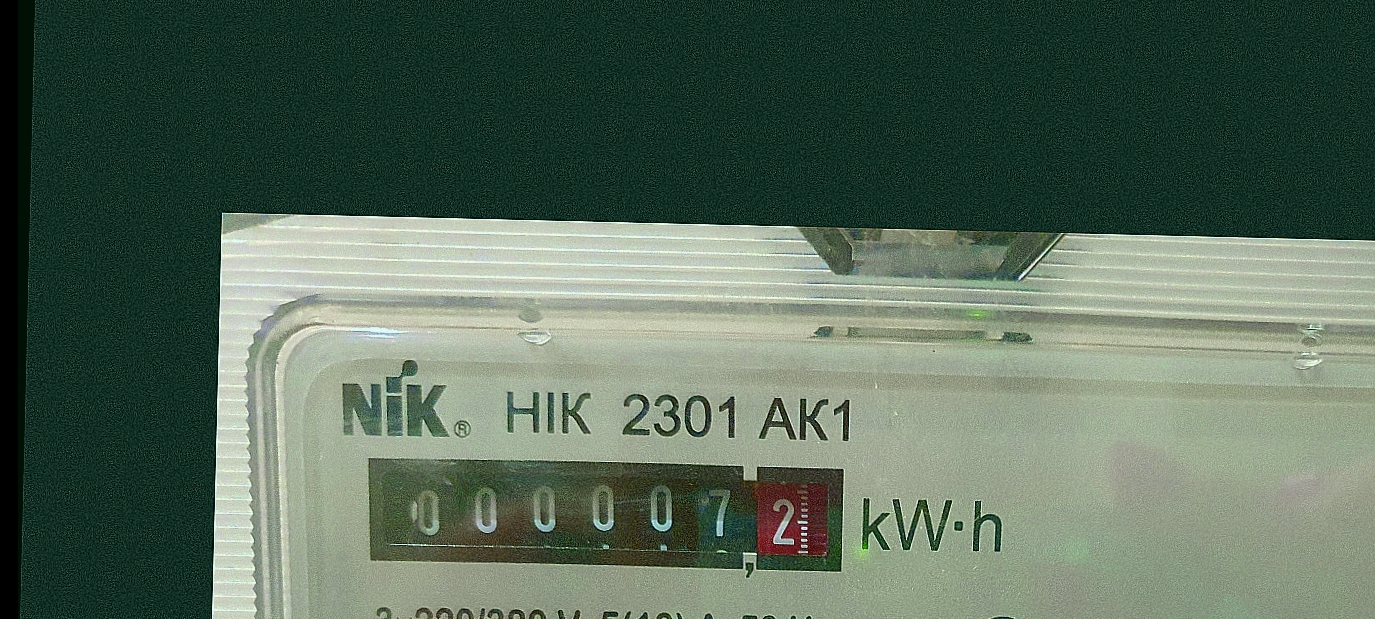0: (468, 482, 504, 534), (645, 481, 678, 535), (587, 479, 619, 533), (412, 485, 445, 537), (529, 481, 561, 534)
2: (768, 496, 799, 547)
7: (703, 484, 734, 539)
screen: (348, 437, 865, 591)
